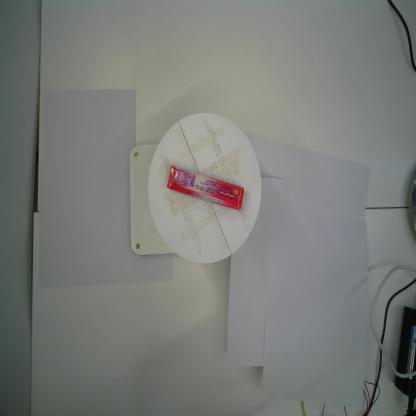Candy: (166, 165, 244, 211)
